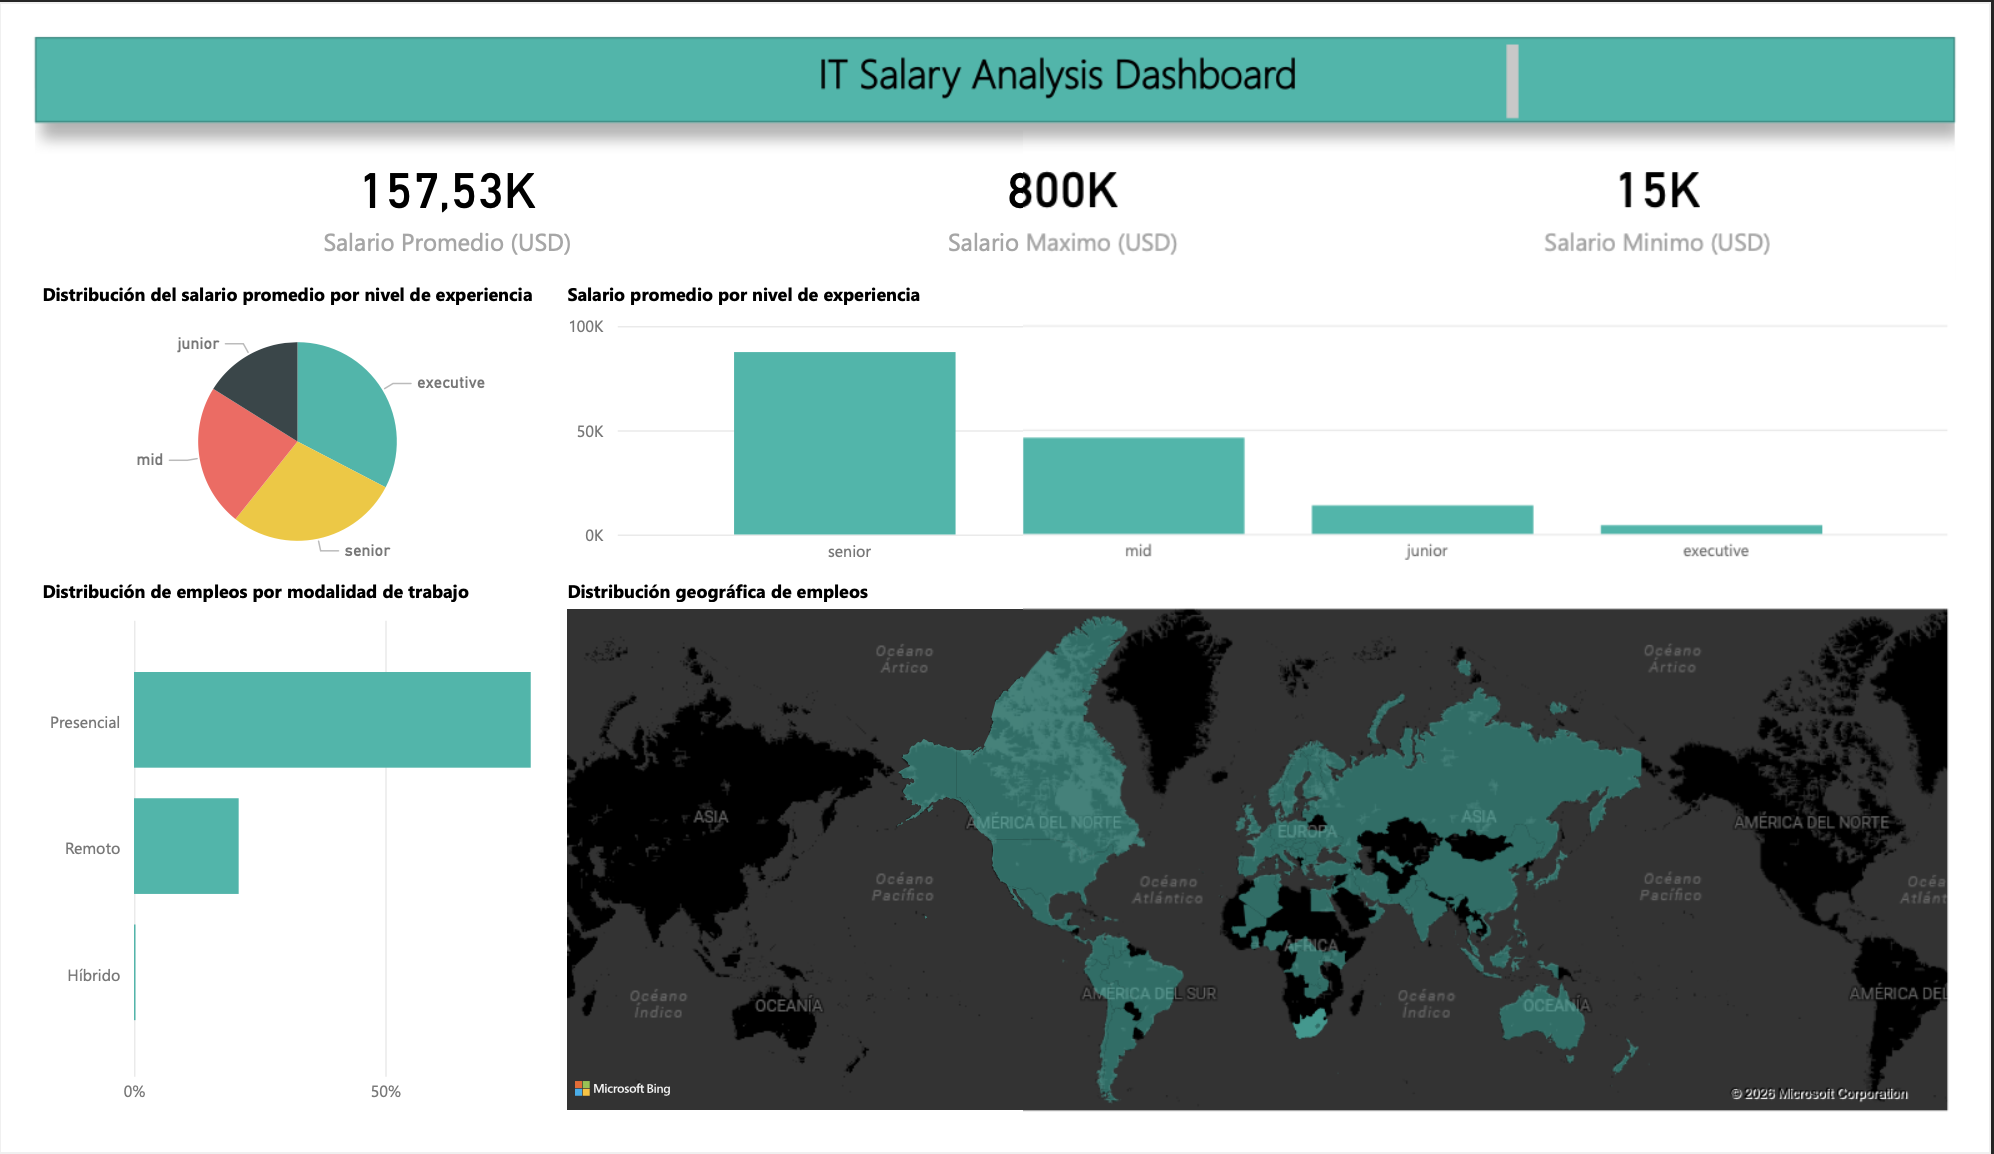

This screenshot's page, from the dashboard's own definition file:
{"tool":"powerbi","page":{"name":"Page 1","canvas":[1280,720],"ordinal":0},"visuals":[{"type":"card","fields":{"Values":["Avg(salaries_cleaned.salary_in_usd)"]},"box":[8,57,534,105],"z":0},{"type":"clusteredColumnChart","title":"Salario promedio por nivel de experiencia","fields":{"Category":["salaries_cleaned.experience_level"],"Y":["CountNonNull(salaries_cleaned.job_title)"]},"box":[350,162,930,198],"z":1000},{"type":"clusteredBarChart","title":"Distribución de empleos por modalidad de trabajo","fields":{"Category":["salaries_cleaned.Modalidad"],"Y":["CountNonNull(salaries_cleaned.job_title)"]},"box":[0,360,350,360],"z":2000},{"type":"filledMap","title":"Distribución geográfica de empleos","fields":{"Category":["salaries_cleaned.employee_residence"]},"box":[350,360,930,360],"z":3000},{"type":"card","fields":{"Values":["Max(salaries_cleaned.salary_in_usd)"]},"box":[475,57,421,105],"z":4000},{"type":"card","fields":{"Values":["Min(salaries_cleaned.salary_in_usd)"]},"box":[884,57,396,105],"z":5000},{"type":"pieChart","title":"Distribución del salario promedio por nivel de experiencia","fields":{"Category":["salaries_cleaned.experience_level"],"Y":["Avg(salaries_cleaned.salary_in_usd)"]},"box":[0,162,350,198],"z":6000},{"type":"textbox","box":[100,100,300,300],"z":7000},{"type":"textbox","box":[100,100,300,300],"z":8000},{"type":"shape","box":[0,0,1280,57],"z":9001},{"type":"textbox","box":[378,0,616,62],"z":9002}]}

Visuals, with their boxes in screenshot pixels (x1, y1, x2, y2), scaled from the page's 1280x720 canvas onto the 1994x1154 screenshot:
card - Avg(salaries_cleaned.salary_in_usd): bbox=[12, 91, 844, 260]
"Salario promedio por nivel de experiencia" clusteredColumnChart: bbox=[545, 260, 1993, 577]
"Distribución de empleos por modalidad de trabajo" clusteredBarChart: bbox=[0, 577, 545, 1153]
"Distribución geográfica de empleos" filledMap: bbox=[545, 577, 1993, 1153]
card - Max(salaries_cleaned.salary_in_usd): bbox=[740, 91, 1396, 260]
card - Min(salaries_cleaned.salary_in_usd): bbox=[1377, 91, 1993, 260]
"Distribución del salario promedio por nivel de experiencia" pieChart: bbox=[0, 260, 545, 577]
textbox: bbox=[156, 160, 623, 641]
textbox: bbox=[156, 160, 623, 641]
shape: bbox=[0, 0, 1993, 91]
textbox: bbox=[589, 0, 1548, 99]
